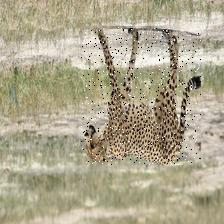Cheetha: (80, 26, 200, 164)
